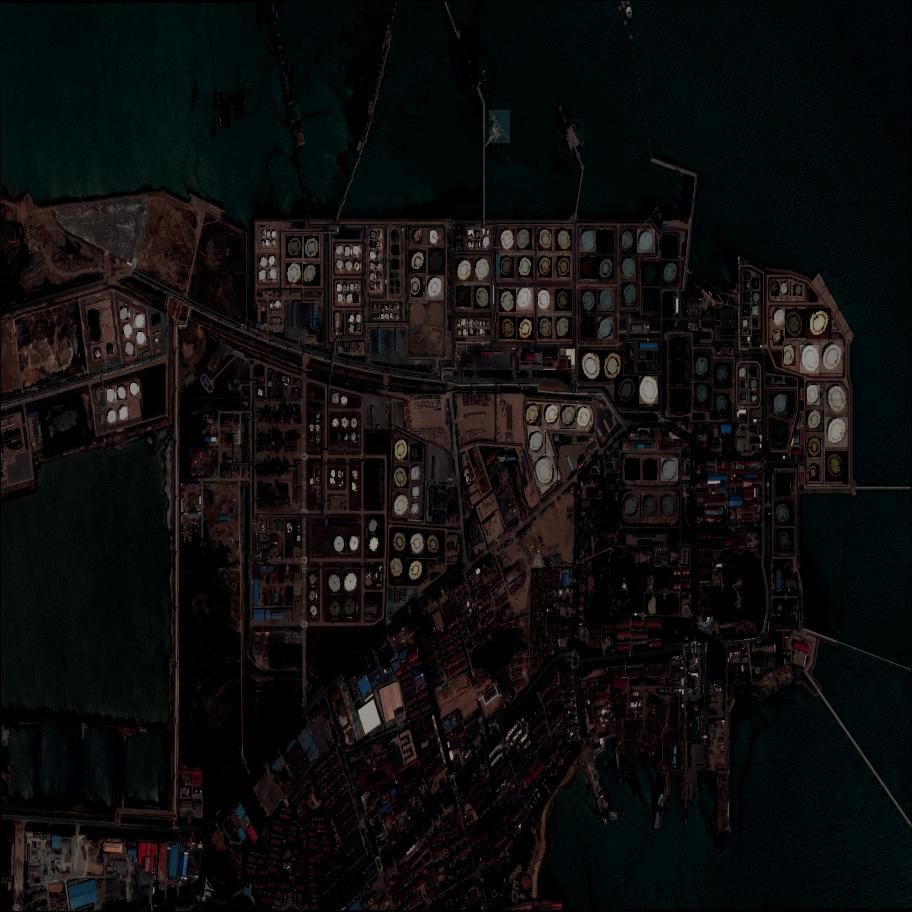ship: (460, 27, 478, 86), (488, 110, 512, 144), (471, 24, 479, 84), (570, 120, 585, 145), (670, 741, 679, 770), (213, 92, 224, 108), (290, 65, 295, 96), (364, 86, 368, 121), (190, 93, 200, 105), (632, 784, 640, 796), (655, 812, 660, 828), (192, 96, 199, 107), (627, 772, 632, 785), (609, 813, 617, 821), (658, 795, 663, 807), (238, 106, 243, 117), (225, 120, 231, 128), (222, 116, 227, 125), (362, 79, 366, 87), (652, 776, 657, 782), (210, 131, 214, 138), (654, 207, 659, 212), (212, 132, 216, 138), (241, 108, 244, 116), (624, 773, 627, 779), (221, 119, 223, 126), (241, 106, 242, 117), (226, 118, 227, 127), (659, 212, 661, 213), (626, 771, 626, 779), (220, 120, 220, 123), (224, 121, 224, 127), (236, 114, 236, 119), (238, 108, 238, 117), (239, 106, 239, 111)
storage-tank: (820, 342, 846, 375), (806, 308, 832, 340), (579, 350, 605, 382), (534, 456, 560, 487), (615, 377, 640, 408), (825, 418, 849, 448), (826, 452, 849, 483), (826, 385, 849, 414), (800, 344, 822, 374), (786, 309, 808, 339), (638, 376, 659, 406), (602, 351, 623, 381), (637, 229, 657, 254), (426, 533, 445, 558), (642, 261, 661, 286), (392, 493, 411, 517), (426, 276, 445, 300), (455, 258, 474, 282), (670, 390, 689, 414), (597, 230, 616, 254), (661, 262, 680, 286), (408, 560, 426, 584), (776, 501, 794, 525), (499, 316, 517, 340), (543, 404, 561, 428), (560, 405, 578, 429), (389, 558, 407, 581), (410, 250, 428, 273), (806, 411, 824, 434), (529, 432, 547, 455), (555, 229, 573, 252), (516, 289, 534, 312), (499, 289, 517, 312), (473, 286, 491, 309), (624, 495, 642, 518), (580, 257, 598, 280), (597, 256, 615, 279), (715, 363, 732, 387), (661, 458, 678, 482), (580, 230, 597, 254), (662, 236, 679, 260), (304, 264, 321, 287), (286, 236, 303, 259), (304, 236, 321, 259), (695, 384, 712, 407), (517, 317, 534, 340), (526, 404, 543, 427), (661, 495, 678, 518), (597, 290, 614, 313), (622, 257, 639, 280), (286, 264, 303, 286), (776, 531, 793, 553), (714, 394, 731, 416), (556, 289, 572, 312), (625, 458, 641, 481), (644, 289, 660, 312), (326, 573, 343, 594), (344, 572, 360, 594), (394, 467, 410, 489), (392, 531, 408, 553), (696, 356, 712, 378), (538, 317, 554, 339), (474, 259, 490, 281), (598, 317, 614, 339), (410, 533, 426, 554), (556, 318, 572, 339), (456, 286, 472, 307), (538, 230, 554, 251), (500, 229, 515, 251), (581, 291, 596, 313), (518, 258, 534, 278), (327, 598, 342, 619), (773, 394, 788, 415), (773, 422, 788, 443), (644, 460, 659, 481), (644, 496, 659, 517), (500, 257, 515, 277), (808, 385, 822, 406), (517, 228, 531, 249), (577, 407, 591, 428), (672, 338, 686, 358), (396, 439, 409, 460), (539, 257, 552, 277), (557, 257, 570, 277), (623, 284, 636, 304), (582, 317, 595, 337), (777, 477, 790, 496), (622, 232, 635, 251), (411, 445, 425, 462), (809, 438, 821, 457), (672, 364, 684, 383), (539, 291, 551, 310), (773, 309, 786, 326), (784, 346, 795, 366), (411, 278, 422, 297), (88, 310, 100, 327), (345, 599, 356, 616), (106, 409, 118, 424), (774, 330, 785, 346), (368, 537, 380, 551), (118, 386, 130, 400), (133, 314, 145, 328), (335, 536, 345, 552), (809, 465, 819, 481), (118, 406, 129, 420), (782, 282, 793, 296), (369, 519, 379, 534), (412, 466, 422, 481), (430, 231, 440, 245), (125, 342, 135, 356), (308, 589, 318, 603), (121, 306, 130, 321), (123, 324, 133, 337), (137, 332, 146, 346), (410, 504, 420, 516), (268, 256, 278, 268), (414, 230, 423, 243), (91, 327, 99, 341), (341, 417, 350, 429), (309, 605, 318, 617), (794, 285, 803, 297), (742, 305, 751, 317), (130, 382, 138, 395), (771, 282, 779, 295), (269, 270, 278, 281), (740, 367, 749, 378), (392, 231, 400, 243), (349, 537, 361, 545), (749, 380, 758, 390), (260, 257, 268, 268), (332, 418, 340, 428), (94, 349, 102, 359), (336, 247, 344, 257), (752, 279, 760, 289), (342, 431, 349, 442), (309, 389, 317, 398), (353, 247, 361, 256), (108, 390, 114, 401), (341, 396, 348, 405), (352, 470, 359, 479), (345, 261, 352, 270), (346, 294, 353, 303), (370, 231, 377, 240), (352, 418, 358, 428), (333, 393, 339, 403), (351, 431, 357, 441), (260, 270, 266, 280), (310, 575, 316, 585), (751, 367, 757, 377), (257, 388, 264, 396), (393, 260, 399, 269), (393, 246, 399, 255), (413, 487, 419, 496), (107, 345, 113, 354), (483, 238, 489, 247), (753, 306, 759, 315), (753, 293, 759, 302), (355, 314, 361, 322), (356, 324, 362, 332), (475, 231, 481, 239), (337, 261, 343, 269), (315, 461, 321, 469), (345, 248, 351, 256), (457, 329, 463, 337), (744, 319, 750, 327), (744, 272, 750, 280), (355, 262, 360, 271), (745, 293, 750, 302), (333, 431, 337, 442), (349, 325, 355, 332), (315, 413, 321, 420), (315, 424, 321, 431), (308, 461, 314, 468), (751, 394, 757, 401), (463, 469, 469, 476), (469, 329, 475, 336), (352, 482, 357, 490), (309, 435, 314, 443), (370, 262, 375, 270), (753, 319, 758, 327), (377, 274, 383, 280), (377, 253, 383, 259), (349, 315, 354, 322), (378, 564, 383, 571), (309, 424, 314, 431), (272, 240, 277, 247), (377, 263, 382, 270), (741, 393, 746, 400), (554, 435, 559, 442), (354, 295, 358, 303), (339, 294, 343, 302), (744, 282, 748, 290), (396, 282, 401, 288), (385, 313, 390, 319), (436, 493, 441, 499), (272, 231, 277, 237), (371, 242, 376, 248), (286, 524, 291, 530), (794, 438, 799, 444), (475, 241, 479, 248), (371, 282, 375, 289), (310, 414, 314, 421), (370, 273, 374, 280), (337, 284, 341, 291), (468, 241, 472, 248), (741, 381, 745, 388), (463, 329, 467, 336), (283, 377, 287, 383), (270, 302, 274, 308), (268, 381, 272, 387), (316, 436, 320, 442), (350, 284, 354, 290), (331, 470, 335, 476), (550, 350, 554, 356), (475, 330, 479, 336), (486, 330, 490, 336), (371, 252, 374, 259), (395, 315, 399, 320), (486, 230, 490, 235), (440, 494, 444, 499), (316, 403, 320, 408), (267, 232, 271, 237), (729, 349, 733, 354), (469, 320, 473, 325), (469, 230, 472, 236), (277, 302, 280, 308), (267, 240, 270, 246), (262, 241, 265, 247), (310, 478, 313, 484), (331, 478, 334, 484), (297, 535, 300, 541), (545, 351, 549, 355), (338, 479, 341, 484), (381, 314, 384, 319), (386, 306, 389, 311), (397, 289, 400, 294), (310, 402, 313, 407), (458, 319, 461, 324), (463, 320, 466, 325), (475, 320, 478, 325), (344, 284, 346, 291), (367, 572, 369, 578), (373, 572, 375, 578), (316, 478, 319, 482), (467, 476, 469, 482), (559, 435, 562, 439), (398, 274, 400, 279), (339, 471, 341, 476), (391, 289, 393, 294), (378, 284, 380, 289), (262, 231, 264, 236), (309, 470, 311, 475), (316, 470, 318, 475), (738, 677, 740, 682), (481, 329, 483, 334), (381, 305, 384, 308), (373, 315, 376, 318), (390, 305, 393, 308), (482, 230, 485, 233), (374, 305, 376, 309), (392, 282, 394, 286), (391, 314, 393, 318), (268, 391, 270, 395), (356, 285, 358, 289), (377, 232, 379, 236), (378, 243, 380, 247), (794, 430, 796, 434), (778, 605, 780, 609), (554, 443, 556, 447), (487, 321, 489, 325), (377, 305, 379, 308), (742, 678, 744, 681), (719, 684, 721, 687), (621, 578, 623, 581), (624, 578, 626, 581), (481, 321, 482, 326), (395, 305, 396, 309), (156, 338, 157, 342), (262, 526, 264, 528), (717, 349, 719, 351), (378, 314, 379, 317), (298, 529, 299, 532), (735, 678, 736, 681), (743, 329, 744, 332), (391, 275, 392, 277), (716, 684, 717, 686), (262, 307, 263, 309), (277, 387, 278, 388), (716, 689, 717, 690), (276, 391, 277, 391), (298, 525, 299, 525), (715, 684, 715, 687), (715, 689, 715, 691), (719, 689, 719, 691), (746, 330, 746, 331)
